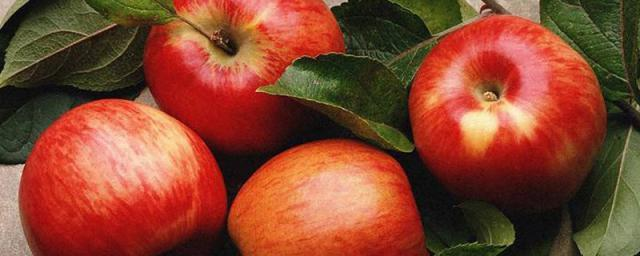apple: (405, 14, 607, 205), (18, 96, 230, 255), (145, 1, 341, 150), (222, 141, 424, 256)
